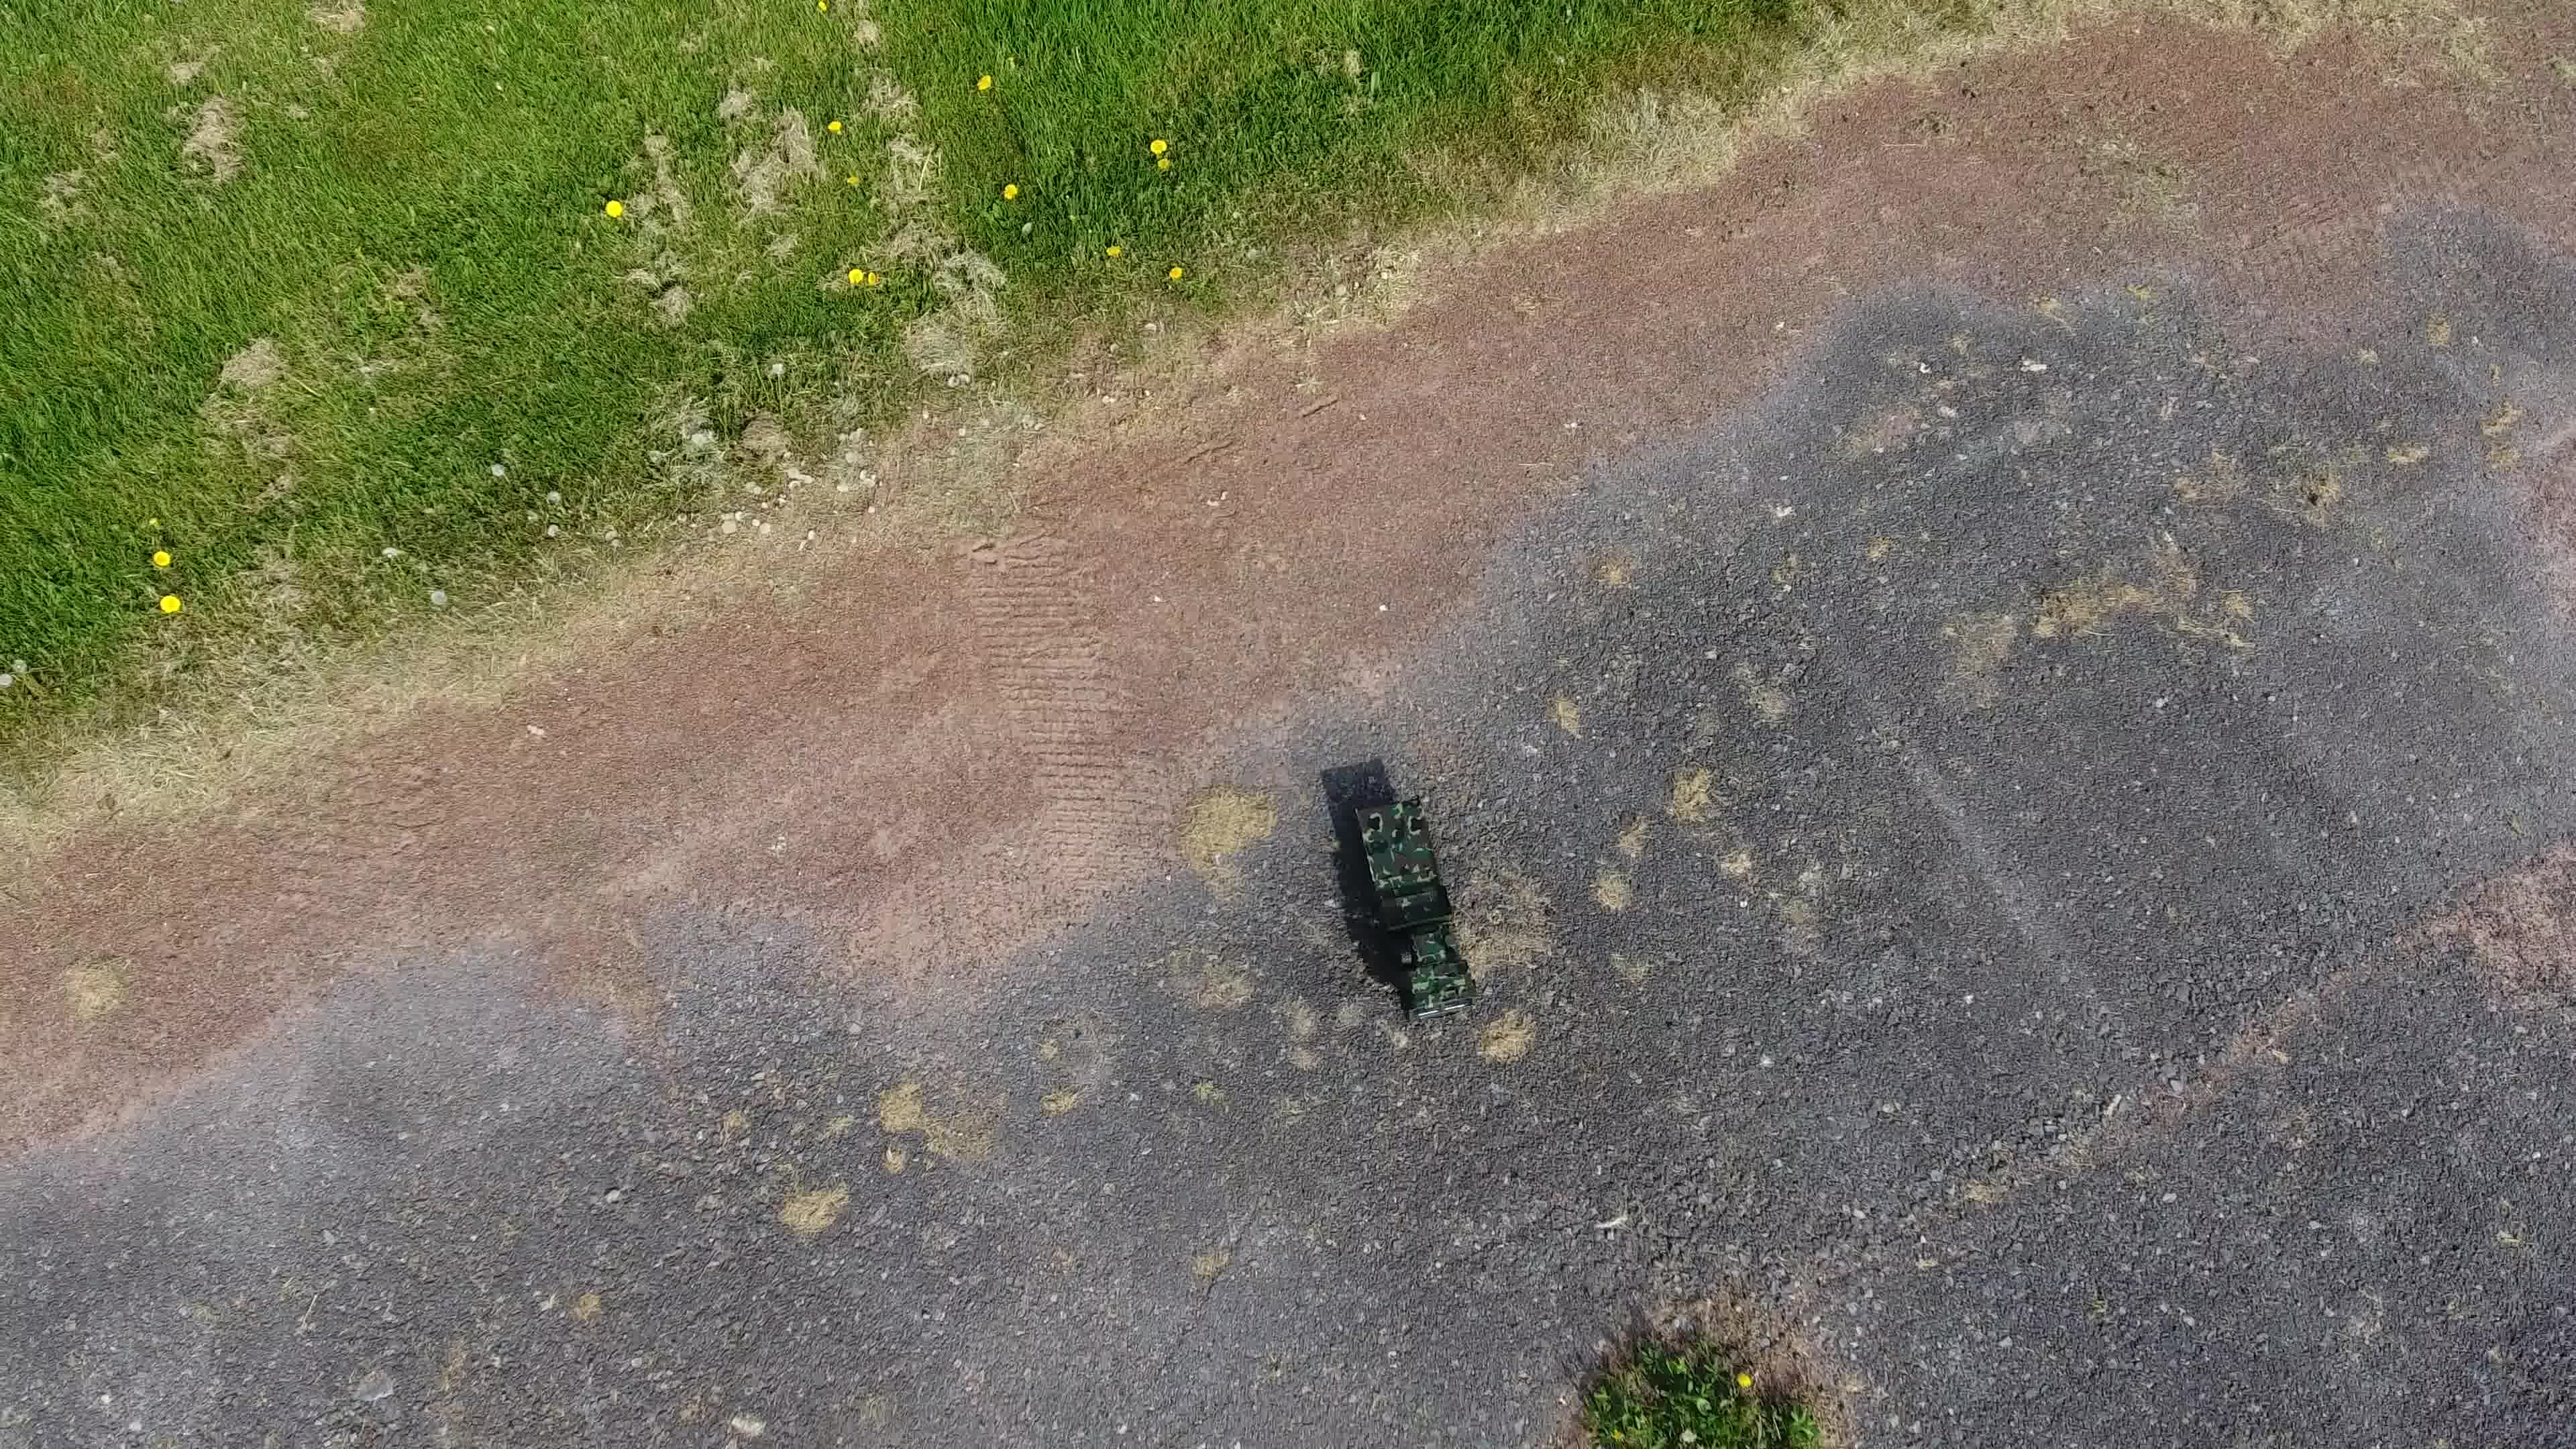transporter9_camo: (1334, 794, 1490, 1024)
